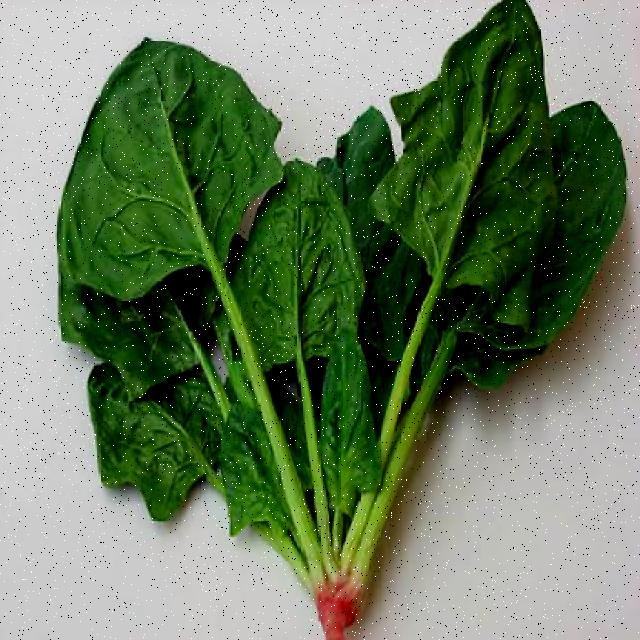Spinach: (32, 0, 625, 638)
